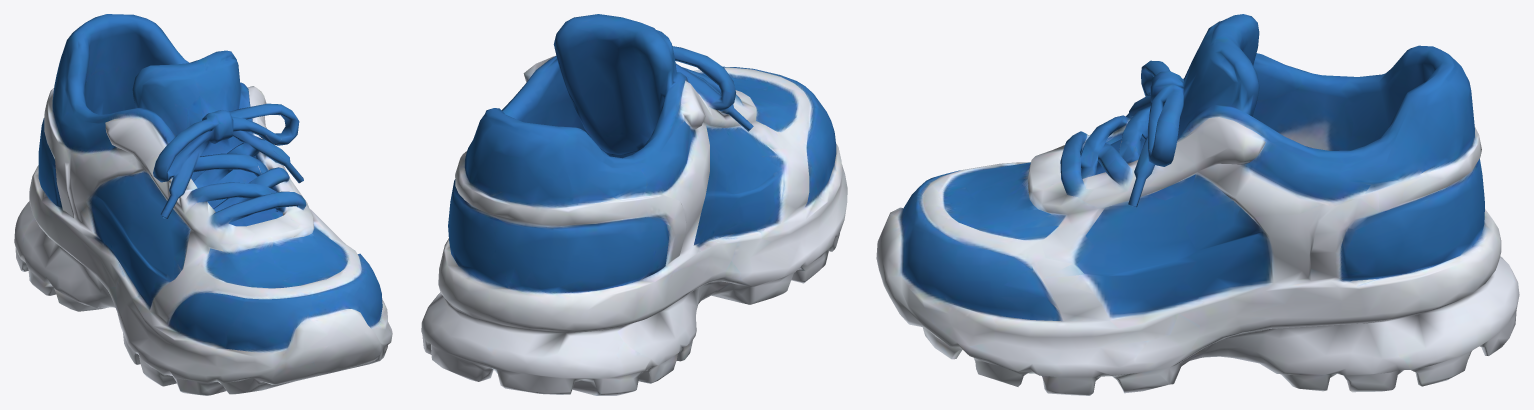
File: shoe-runner.glb
3 renders of one model, left to right at view 1: azimuth 30°, elevation 25°; view 2: azimuth 150°, elevation 25°; view 3: azimuth 270°, elevation 25°, orthographic. The views are drawn at different scales.
Visible parts, largest first — view 1: shoe-runner; view 2: shoe-runner; view 3: shoe-runner.
Part boxes in pixels (x1,y1,x2,y2): shoe-runner: (14,14,392,395); shoe-runner: (421,14,847,395); shoe-runner: (876,14,1519,395).
Size of the model in its own units: 0.4782 by 0.521 by 1.
1 material, 1 textured.
